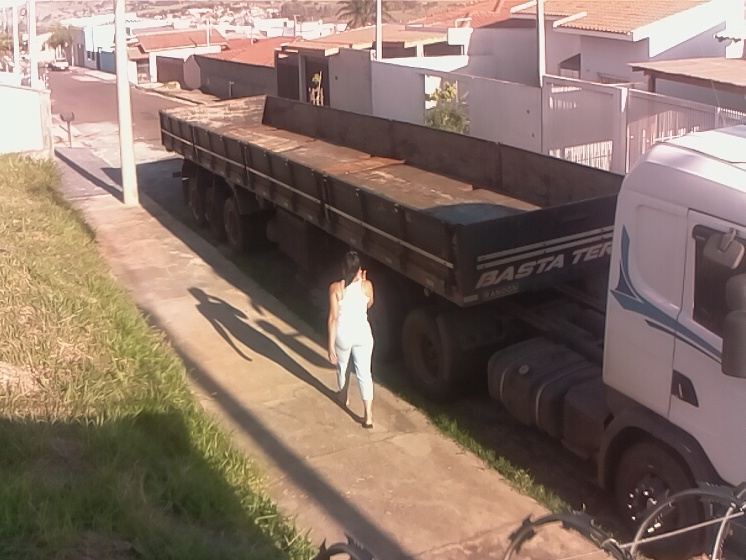person: (326, 248, 388, 434)
